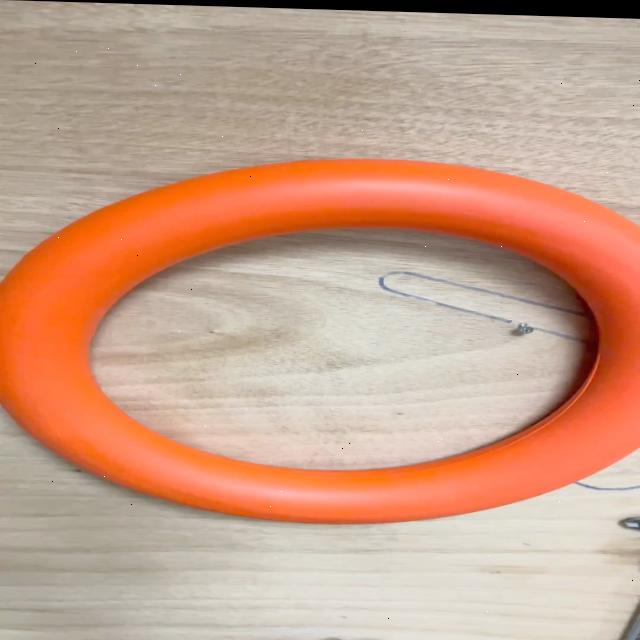note: (3, 146, 637, 531)
